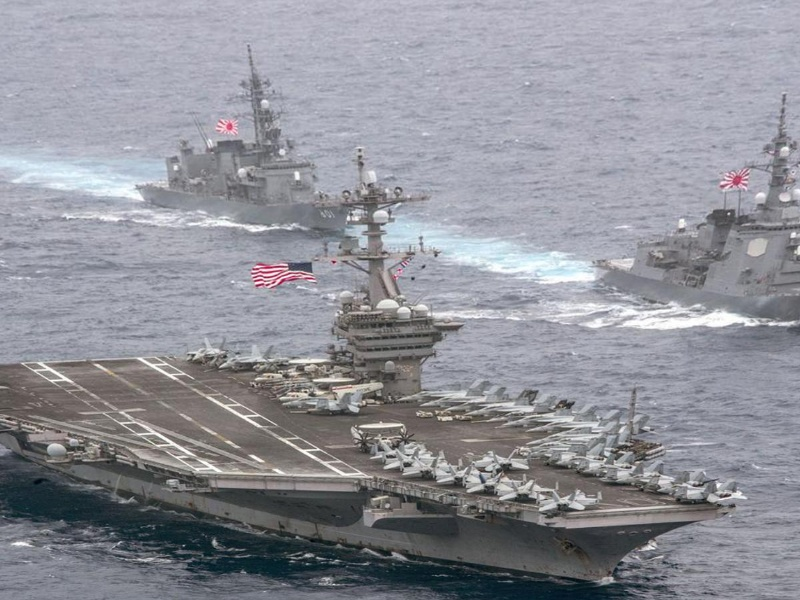carrier: (1, 251, 722, 577)
cruise: (619, 151, 799, 328), (135, 87, 350, 233)
